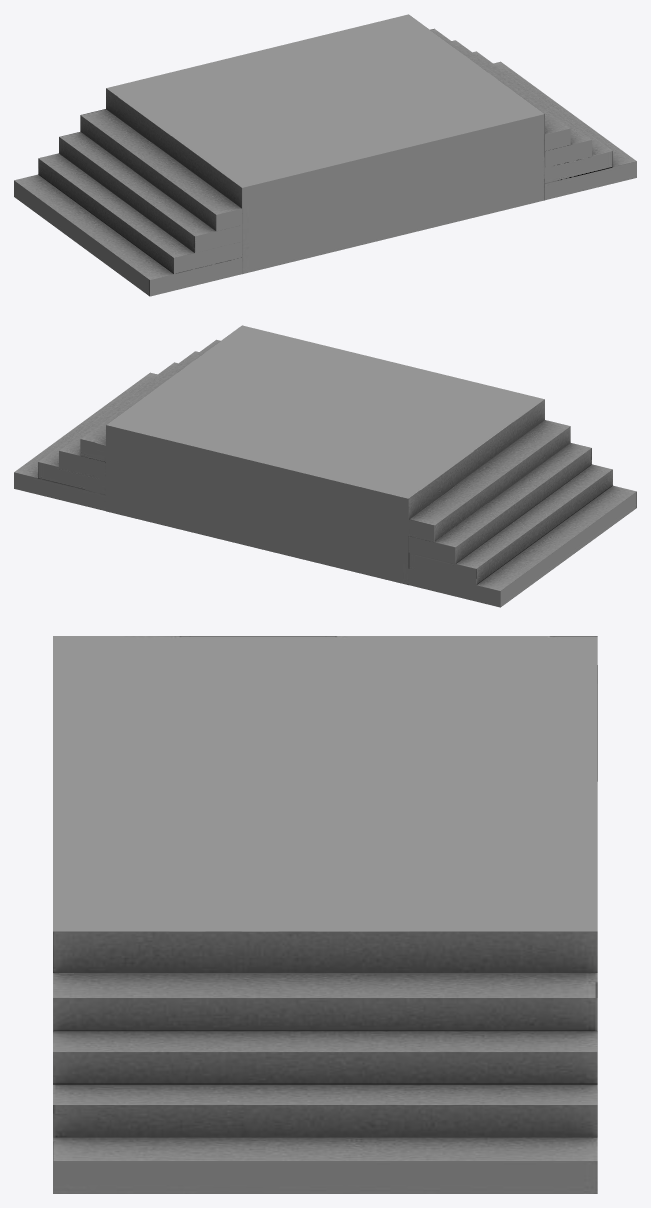
File: stageobj.obj
The picture shows the model from 3 angles, top to bottom: view 1: azimuth 30°, elevation 25°; view 2: azimuth 150°, elevation 25°; view 3: azimuth 270°, elevation 25°; orthographic projection. The views are drawn at different scales.
Parts seen in each view (by area): view 1: Cube.006_Cube.007; view 2: Cube.006_Cube.007; view 3: Cube.006_Cube.007.
Part boxes in pixels (x1,y1,x2,y2): Cube.006_Cube.007: (14,14,636,296); Cube.006_Cube.007: (14,325,636,607); Cube.006_Cube.007: (53,636,597,1193).
Size of the model in its own units: 10.44 by 1.77 by 5.06.
Materials: 1 (1 with a texture image).
